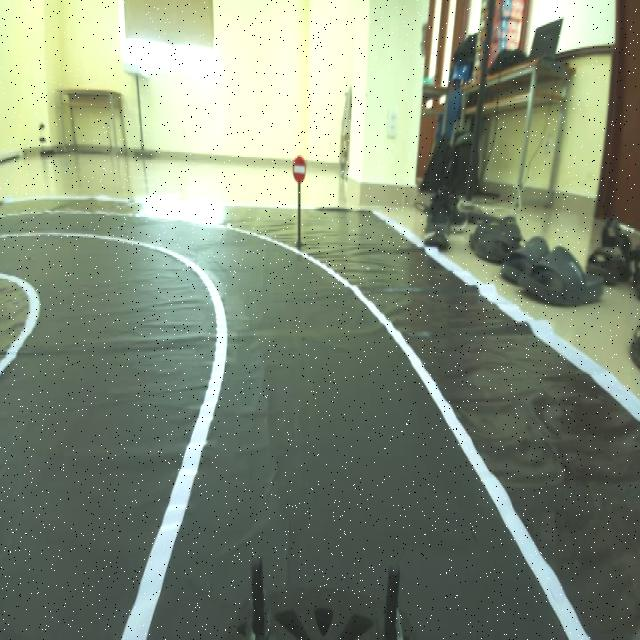no_entry: (290, 153, 310, 181)
